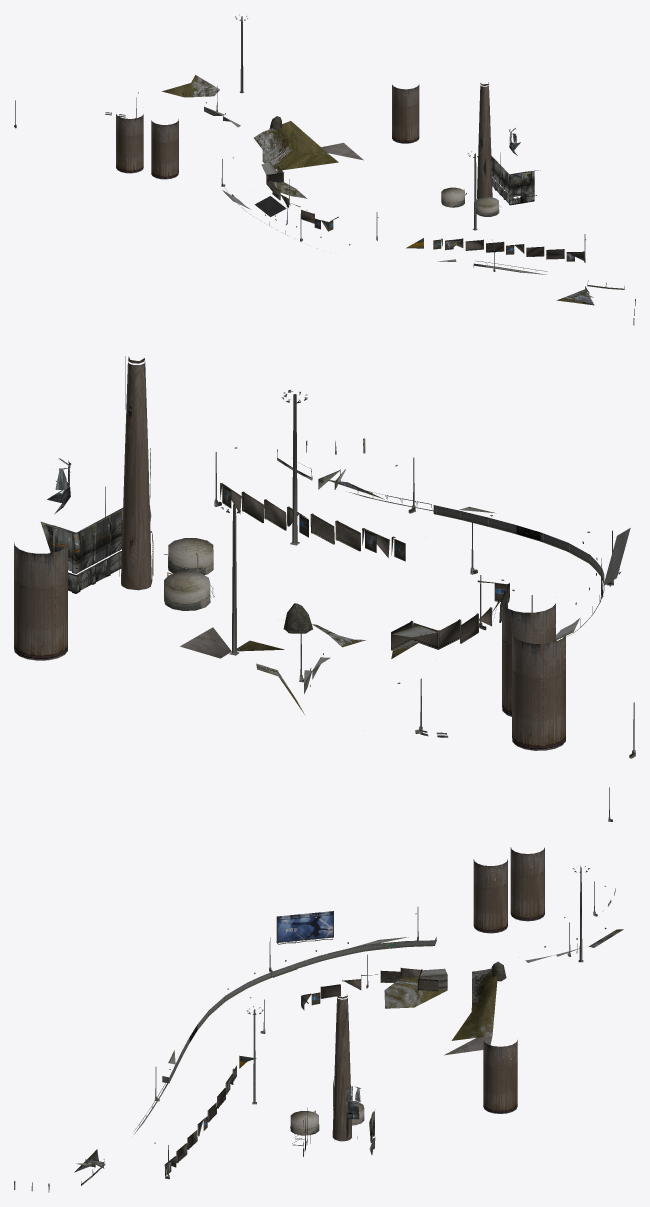
The model's file is world_camden_9_-5.gltf.
3 views of the same model, one above another, from view 1: azimuth 30°, elevation 25°; view 2: azimuth 150°, elevation 25°; view 3: azimuth 270°, elevation 25° (orthographic). The views are drawn at different scales.
Bounding box in the file's own units: 233 × 99.97 × 251.
Materials: 37 (37 with a texture image).
